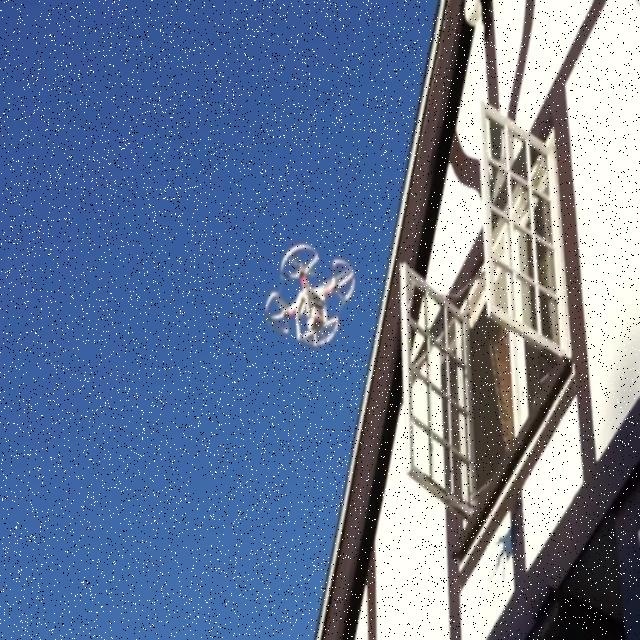UAV: (265, 242, 355, 348)
